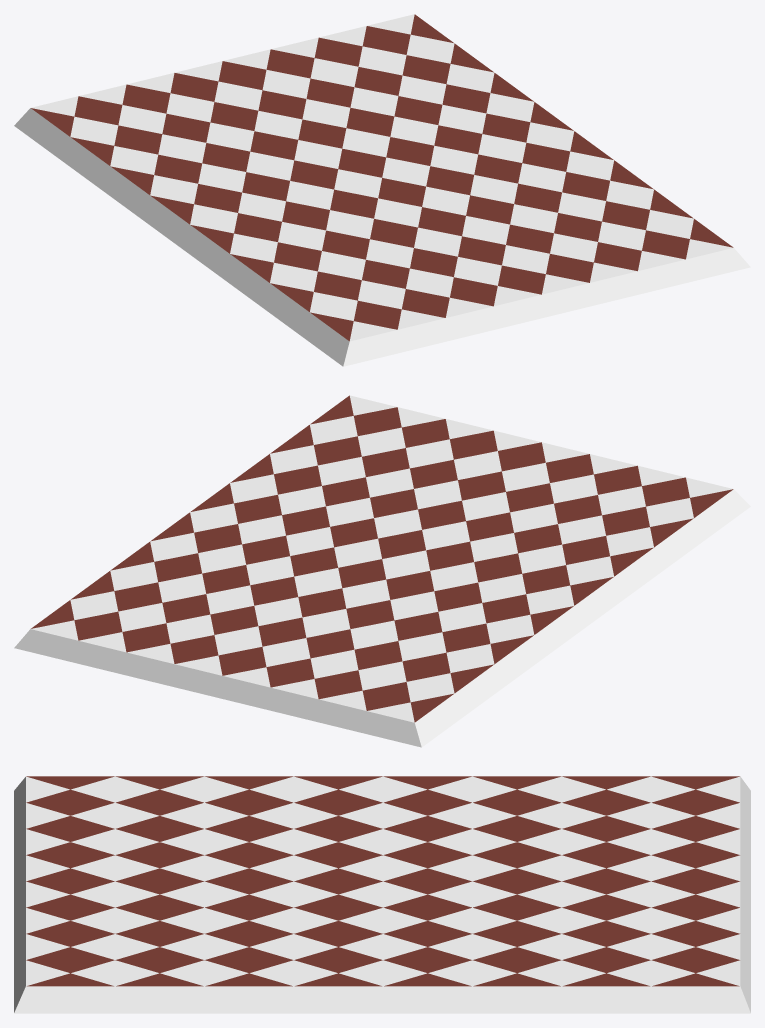
Rendered from cardspade01.obj.
3 renders of one model, top to bottom at view 1: azimuth 30°, elevation 25°; view 2: azimuth 150°, elevation 25°; view 3: azimuth 270°, elevation 25°, orthographic. The views are drawn at different scales.
Visible parts, largest first — view 1: Cube; view 2: Cube; view 3: Cube.
Part boxes in pixels (x1,y1,x2,y2): Cube: (14,14,750,366); Cube: (14,395,750,747); Cube: (14,776,750,1013).
Size of the model in its own units: 0.0635 by 0.00305 by 0.0888.
